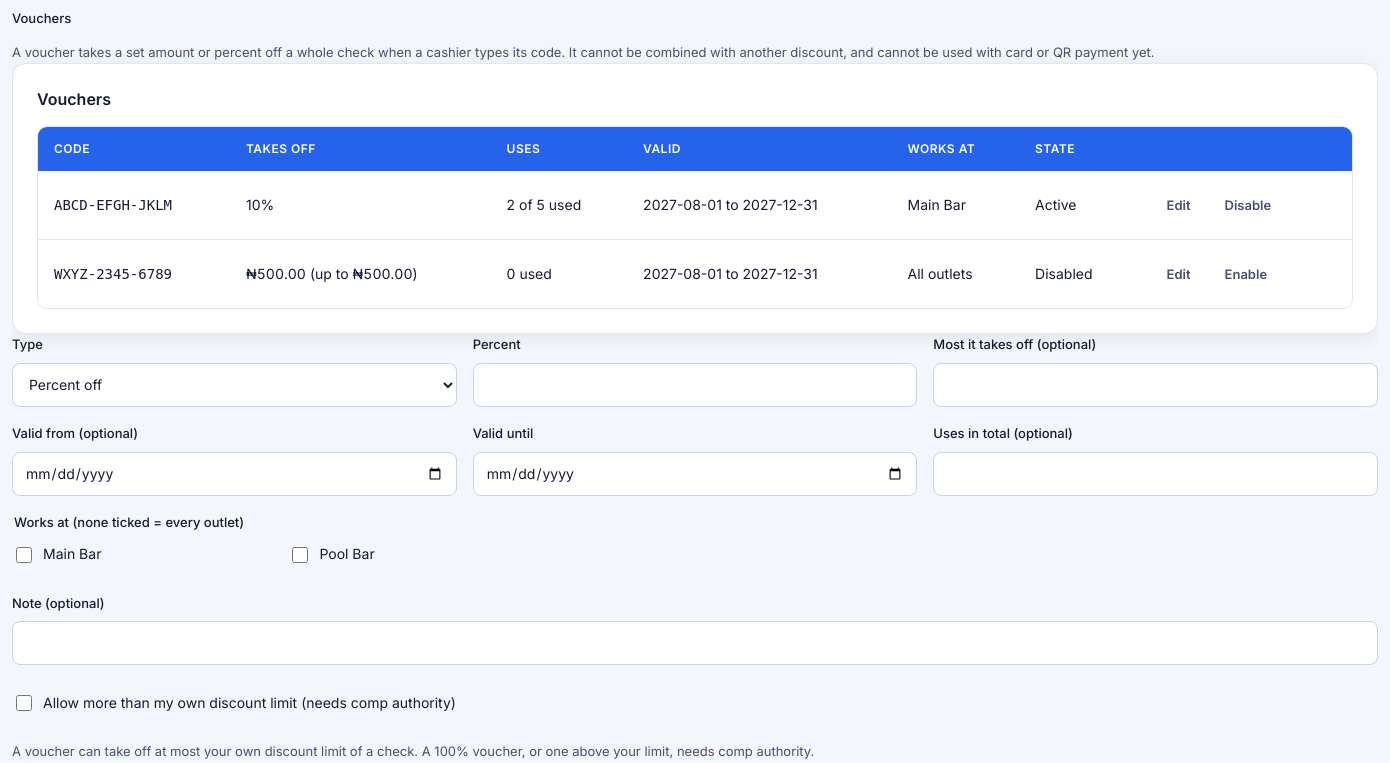
Test: <VouchersSection> › will not submit a bad value, cap or use count
The width and height of the screenshot is (1390, 763).
Check: the text "ABCD-EFGH-JKLM" is shown, box [54,197,172,213]
Type "2027-12-31" into the date field labelled "Valid until" at (695, 474), box [473,452,917,496]
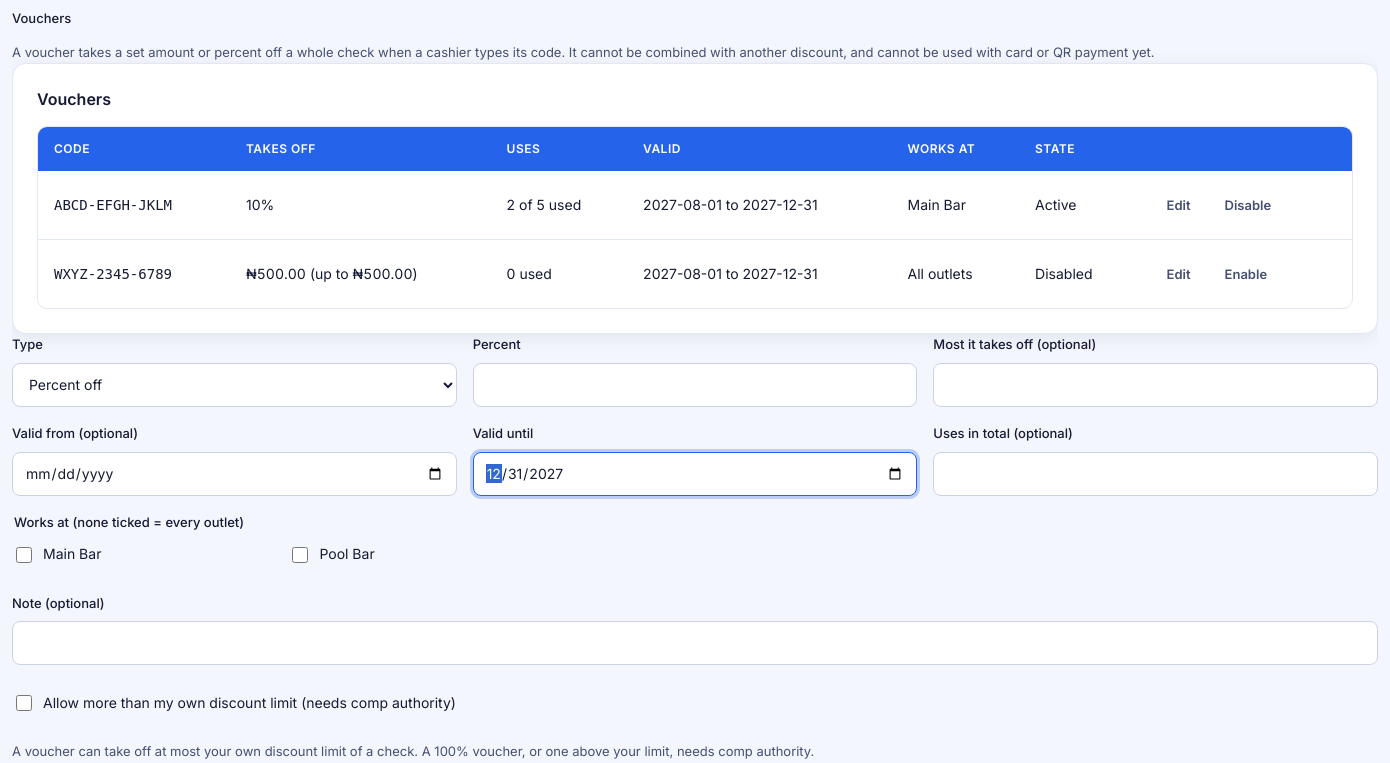
Type "1e2" into the field labelled "Percent" at (695, 385), box [473,363,917,407]
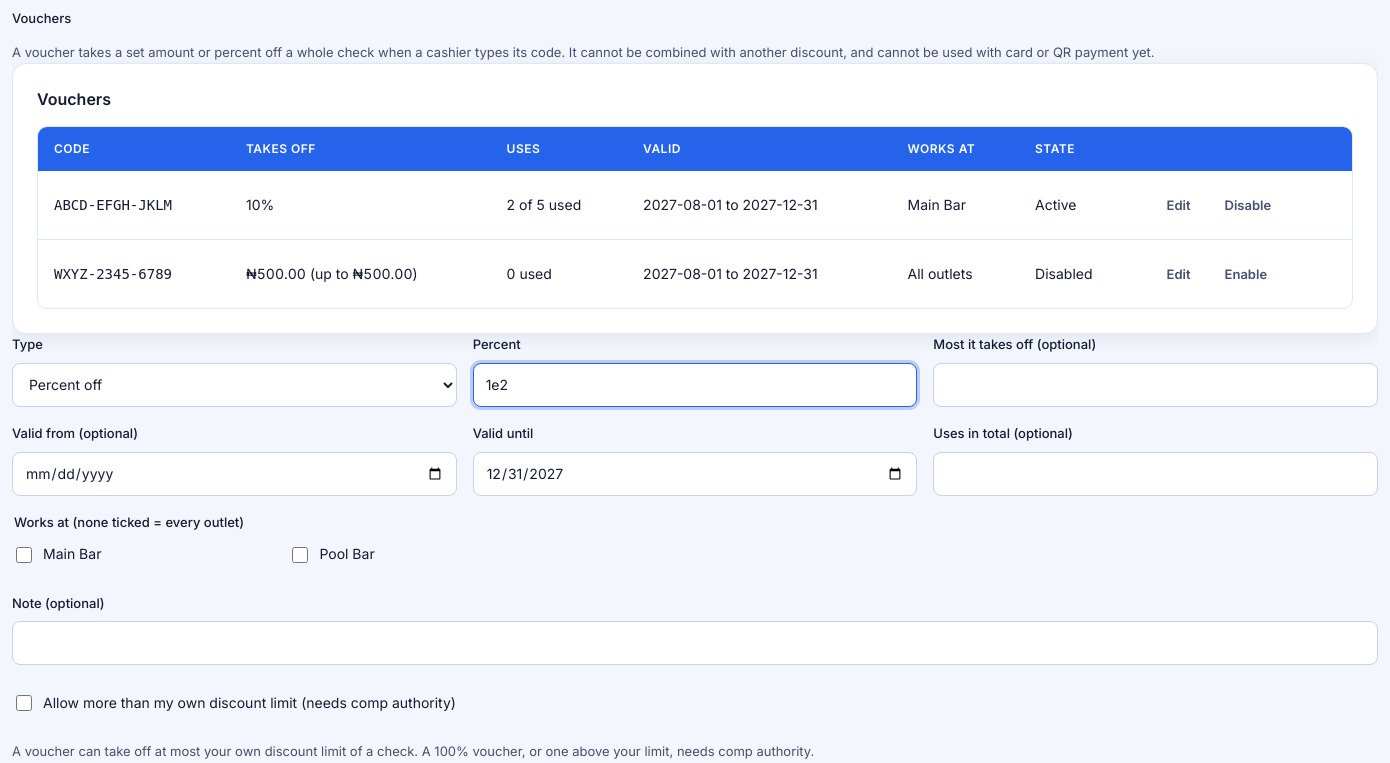
Replace the text in the field labelled "Percent" with "10" at (695, 385), box [473,363,917,407]
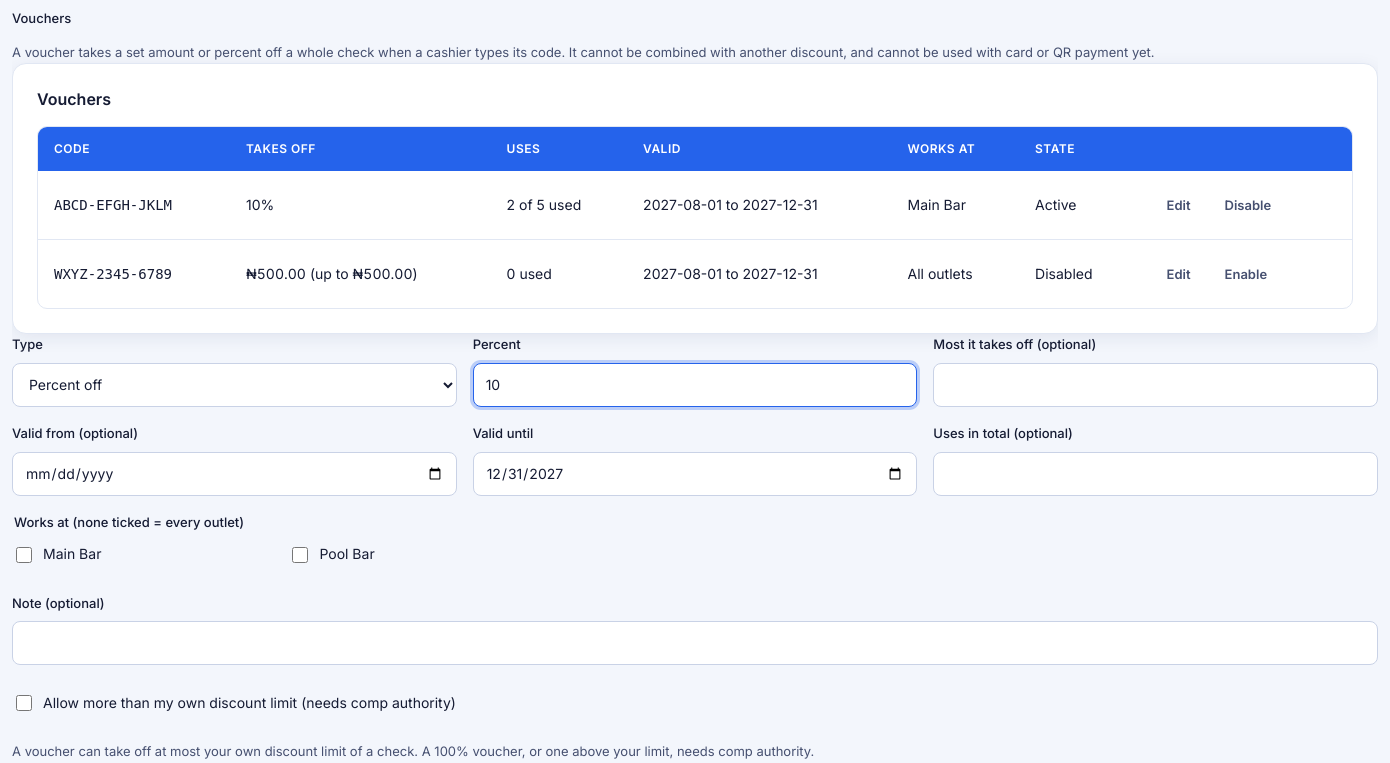
Type "-5" into the field labelled "Most it takes off (optional)" at (1156, 385), box [933,363,1378,407]
(page scrolled)
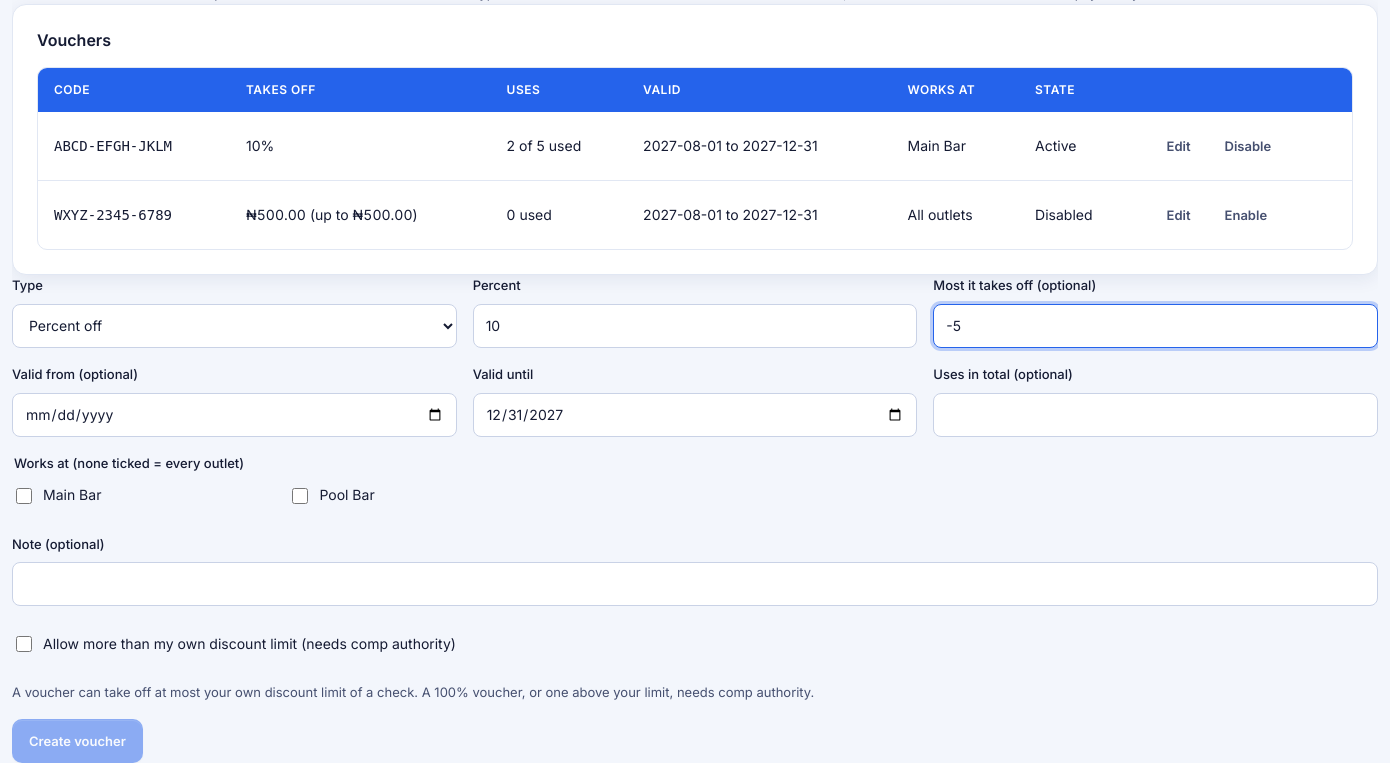
Check: the button "Create voucher" is disabled, box [12,719,143,762]
